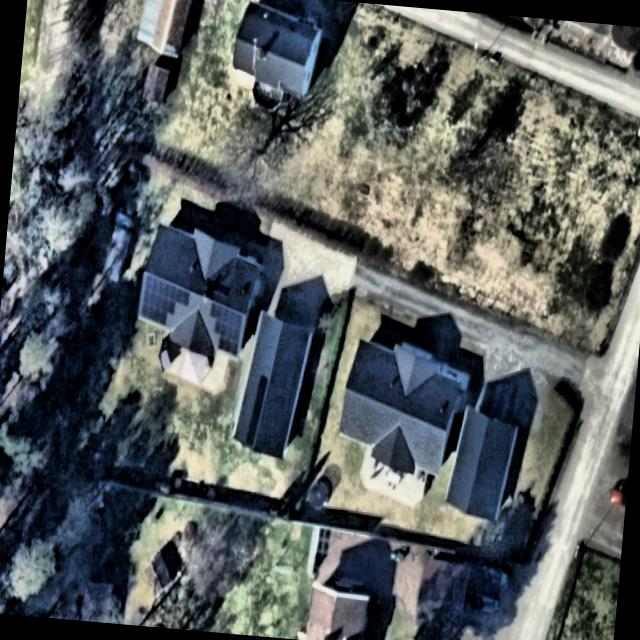roof_pv: (138, 273, 192, 330), (206, 300, 247, 359)
